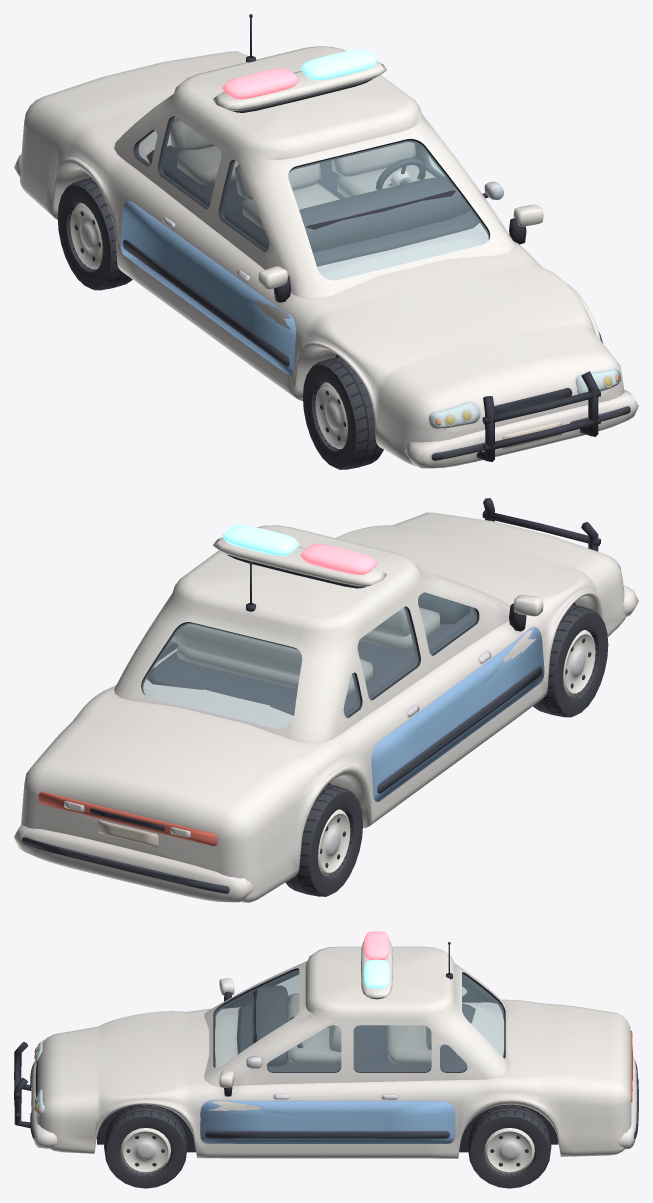
File: car-cop.glb
3 views of the same model, one above another, from view 1: azimuth 30°, elevation 25°; view 2: azimuth 150°, elevation 25°; view 3: azimuth 270°, elevation 25° (orthographic). The views are drawn at different scales.
Visible parts, largest first — view 1: car_body, car_windows, car_wheel_fr, car_lightbar, car_wheel_rr; view 2: car_body, car_windows, car_wheel_rr, car_lightbar, car_wheel_fr; view 3: car_body, car_windows, car_wheel_fl, car_wheel_rl, car_lightbar.
Boxes of the visible parts, <box> form: car_body: <box>14,14,638,468</box>; car_windows: <box>136,116,488,279</box>; car_wheel_fr: <box>303,356,383,469</box>; car_lightbar: <box>213,49,386,112</box>; car_wheel_rr: <box>57,178,132,290</box>; car_body: <box>14,498,638,902</box>; car_windows: <box>142,592,476,728</box>; car_wheel_rr: <box>285,784,362,896</box>; car_lightbar: <box>213,524,386,588</box>; car_wheel_fr: <box>533,604,608,717</box>; car_body: <box>14,942,638,1158</box>; car_windows: <box>215,970,503,1071</box>; car_wheel_fl: <box>104,1104,187,1188</box>; car_wheel_rl: <box>467,1104,551,1188</box>; car_lightbar: <box>361,931,392,999</box>.
Bounding box in the file's own units: 1.96 × 1.82 × 5.09.
Materials: 9 (2 with a texture image).
